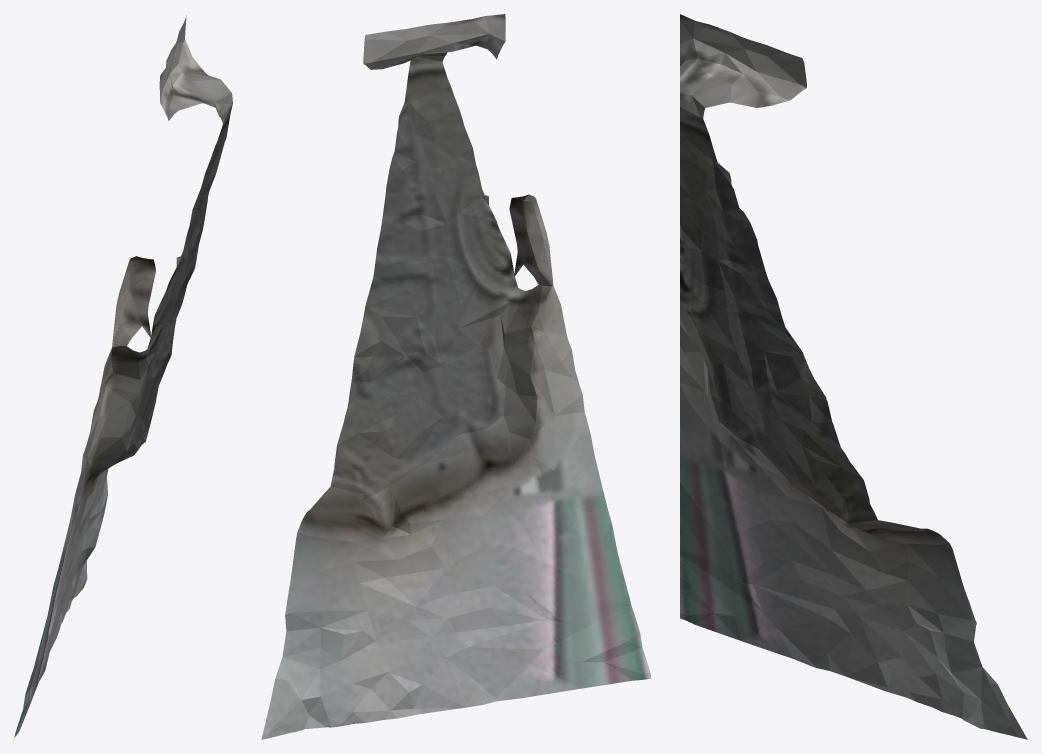
3 renders of one model, left to right at view 1: azimuth 30°, elevation 25°; view 2: azimuth 150°, elevation 25°; view 3: azimuth 270°, elevation 25°, orthographic. The views are drawn at different scales.
Bounding box in the file's own units: 0.3201 × 0.8374 × 0.3873.
Materials: 1 (1 with a texture image).
